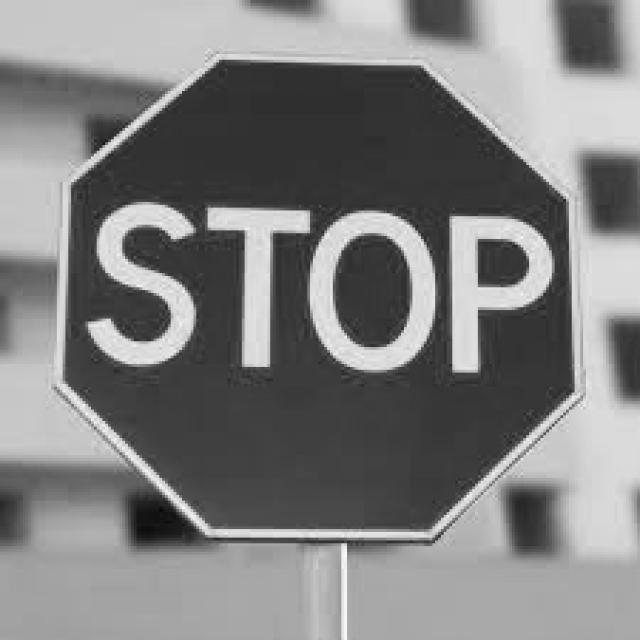Stop-sign: (34, 35, 602, 568)
